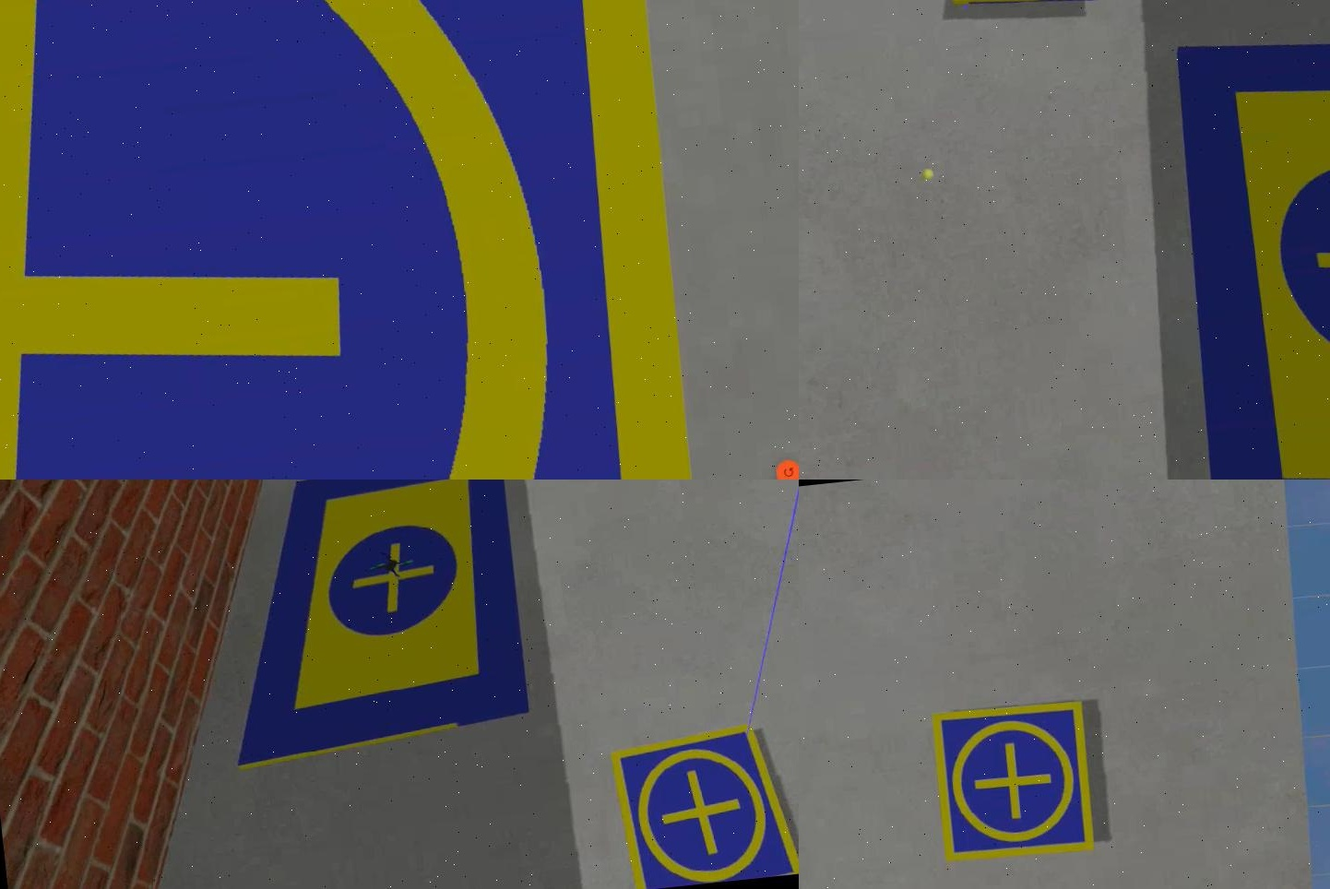large_base: (203, 480, 534, 772), (1155, 1, 1328, 480)
small_base: (0, 1, 699, 480), (608, 724, 797, 889), (924, 698, 1097, 869)
